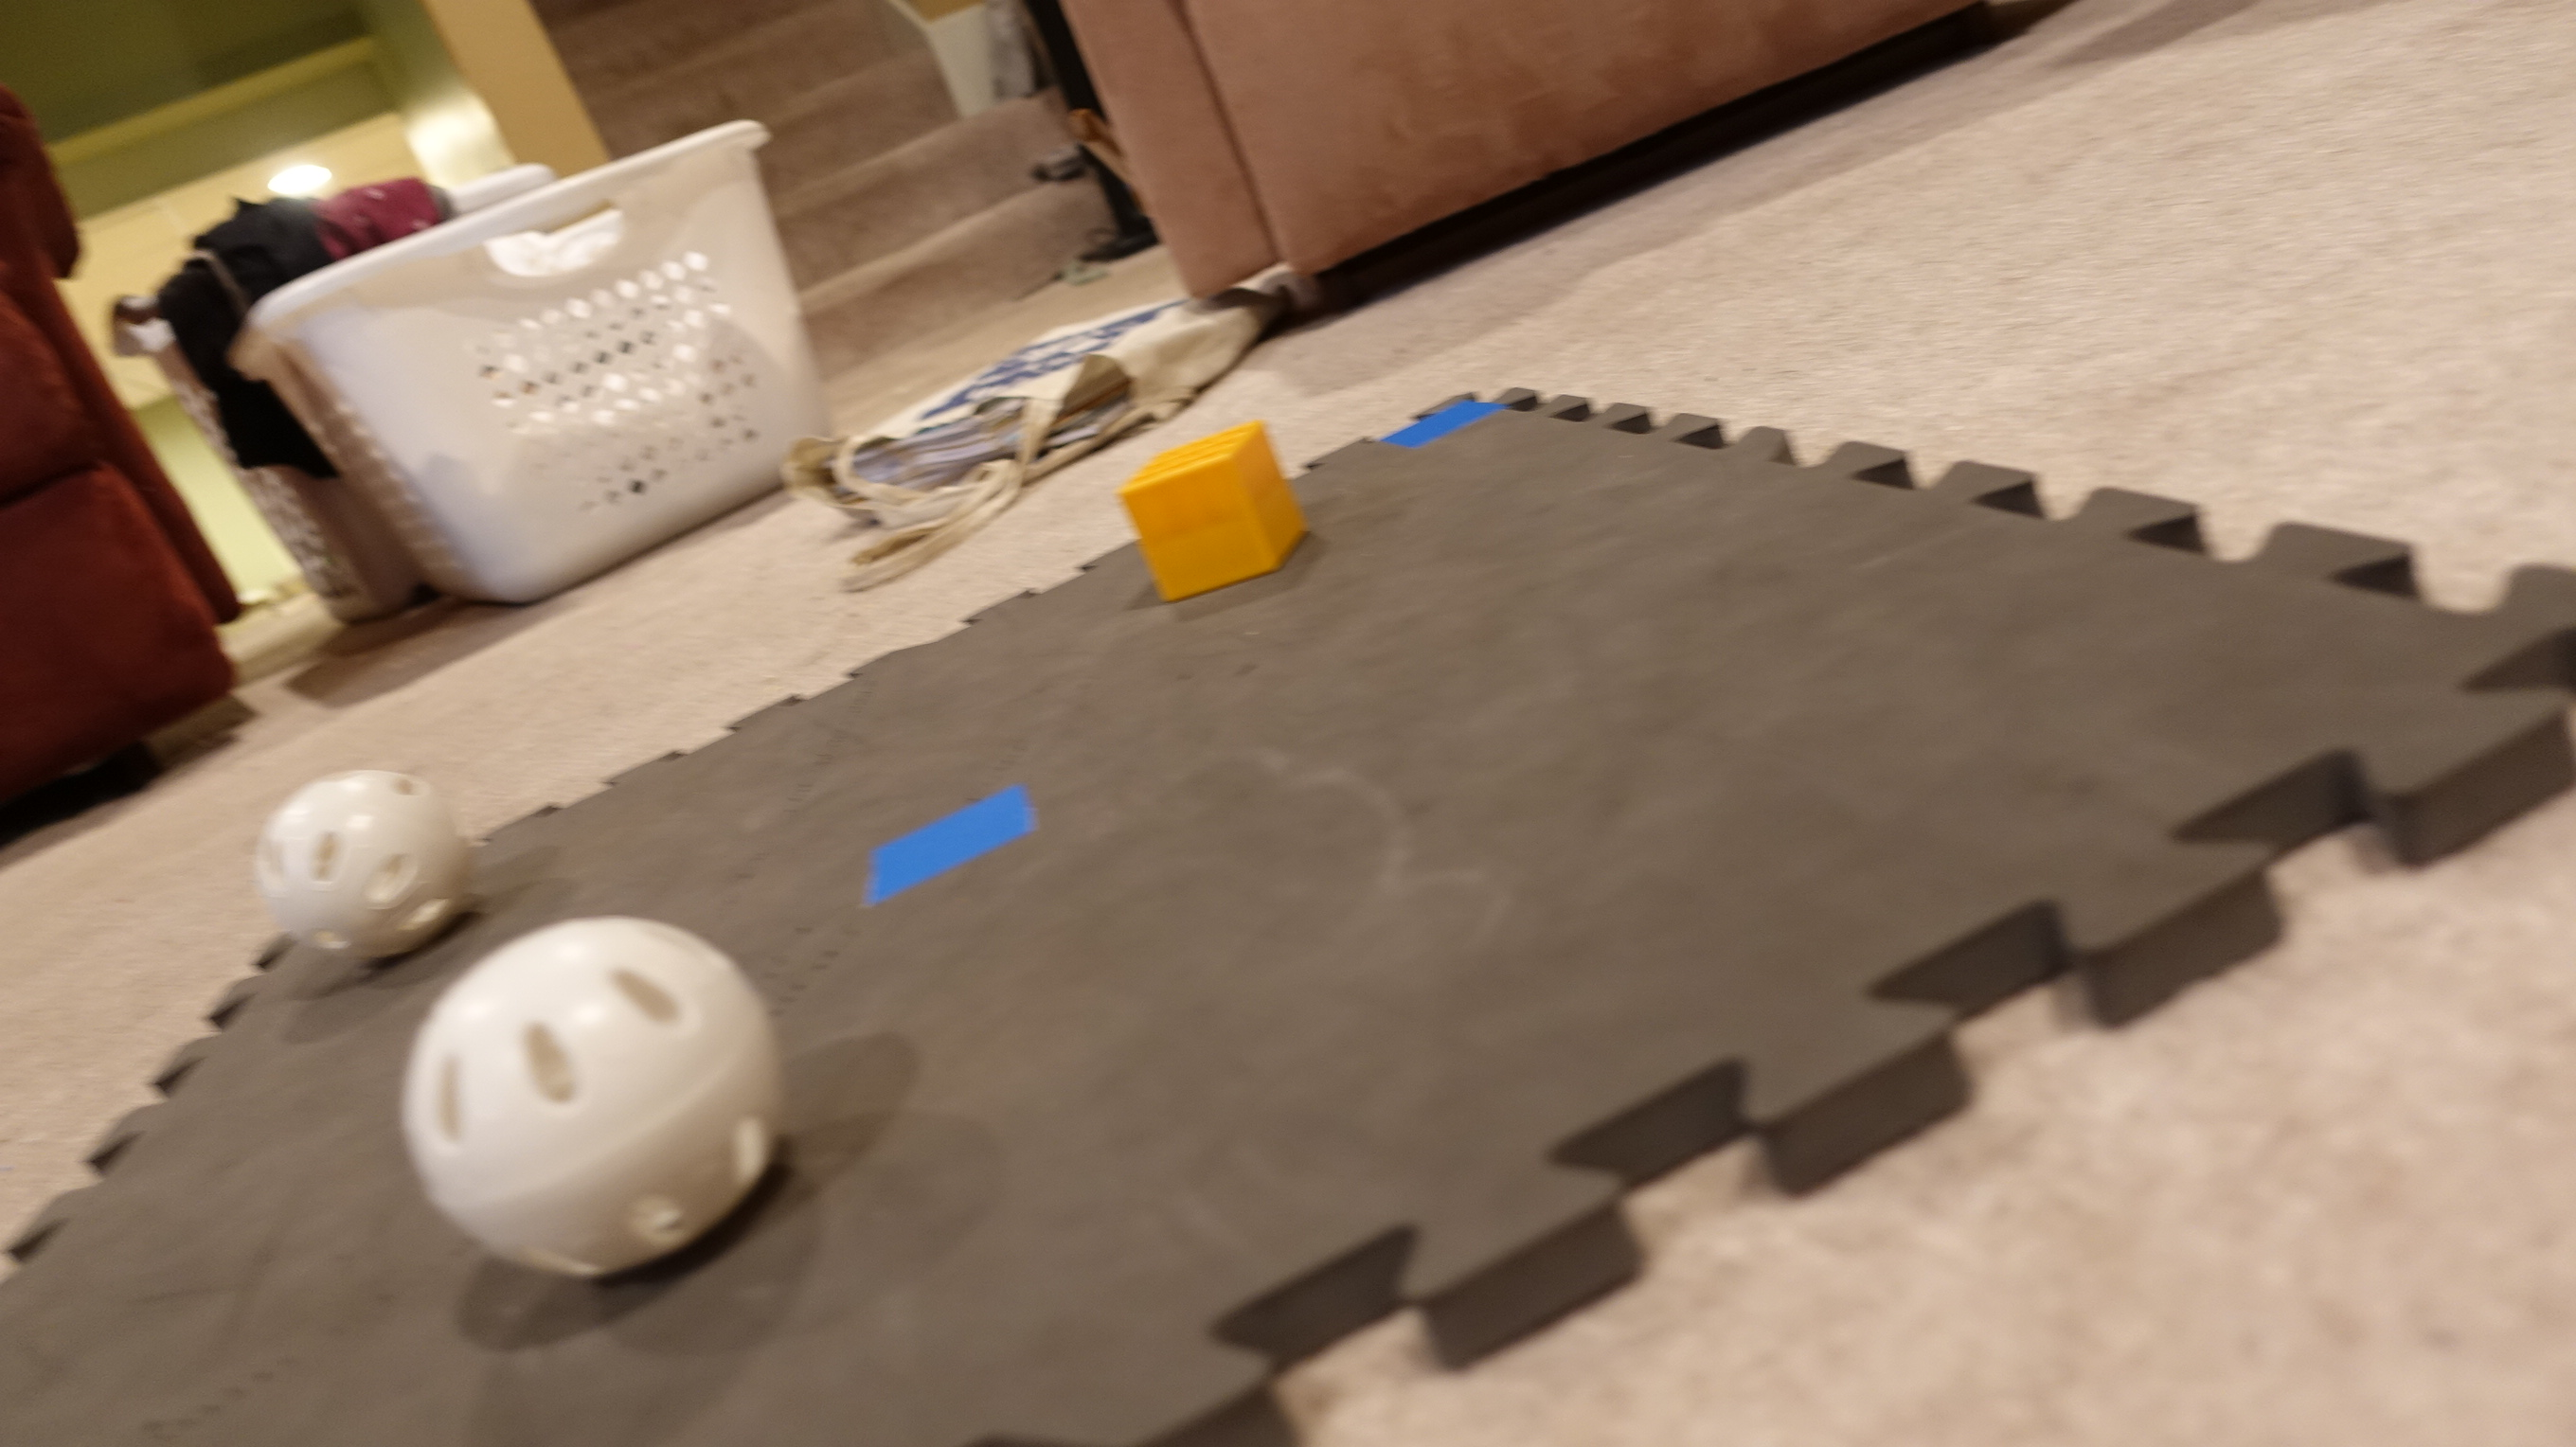gold: (1102, 417, 1329, 605)
silver: (398, 907, 807, 1291), (246, 766, 476, 961)
